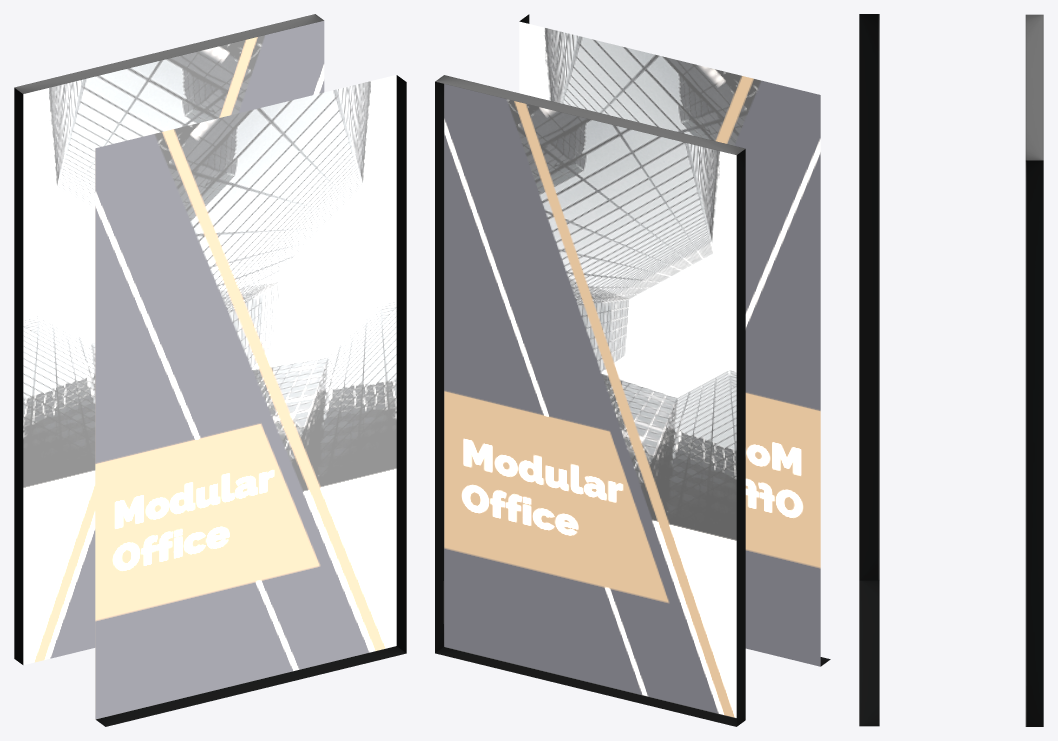
File: SM_PannelV1_Poster.fbx
3 renders of one model, left to right at view 1: azimuth 30°, elevation 25°; view 2: azimuth 150°, elevation 25°; view 3: azimuth 270°, elevation 25°, orthographic.
Parts seen in each view (by area): view 1: SM_PannelV1_Poster_LOD0; view 2: SM_PannelV1_Poster_LOD0; view 3: SM_PannelV1_Poster_LOD0.
Boxes of the visible parts, left/top/right/bottom form: SM_PannelV1_Poster_LOD0: left=14, top=14, right=406, bottom=726; SM_PannelV1_Poster_LOD0: left=435, top=14, right=830, bottom=726; SM_PannelV1_Poster_LOD0: left=859, top=14, right=1043, bottom=726.
Size of the model in its own units: 70.14 by 37.27 by 127.
2 materials, 1 textured.
